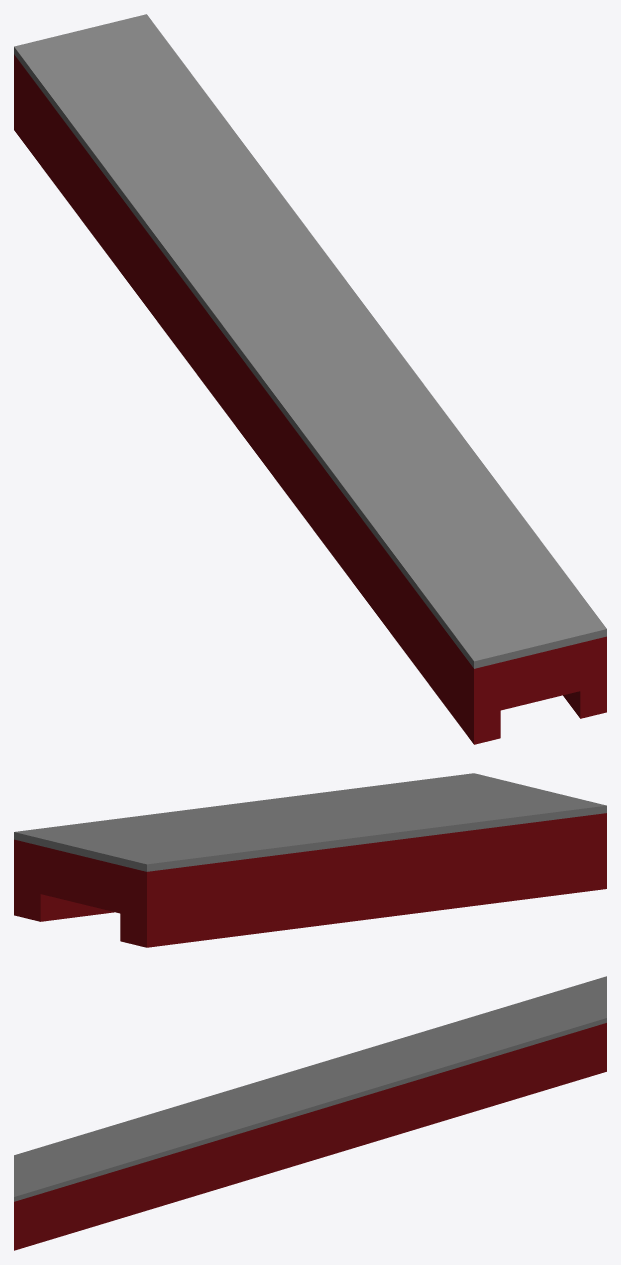
The model's file is SM_MH_01_Slate_Porch_Roof_Quarter_01.fbx.
3 views of the same model, one above another, from view 1: azimuth 30°, elevation 25°; view 2: azimuth 150°, elevation 25°; view 3: azimuth 270°, elevation 25° (orthographic). The views are drawn at different scales.
Visible parts, largest first — view 1: SM_MH_01_Slate_Porch_Roof_Quarter_01_LOD0; view 2: SM_MH_01_Slate_Porch_Roof_Quarter_01_LOD0; view 3: SM_MH_01_Slate_Porch_Roof_Quarter_01_LOD0.
Boxes of the visible parts, x1,y1,x2,y2 form: SM_MH_01_Slate_Porch_Roof_Quarter_01_LOD0: [14, 14, 606, 744]; SM_MH_01_Slate_Porch_Roof_Quarter_01_LOD0: [14, 773, 606, 947]; SM_MH_01_Slate_Porch_Roof_Quarter_01_LOD0: [14, 976, 606, 1250].
Size of what is drawn, in the model's own units: 50 by 130 by 300.
